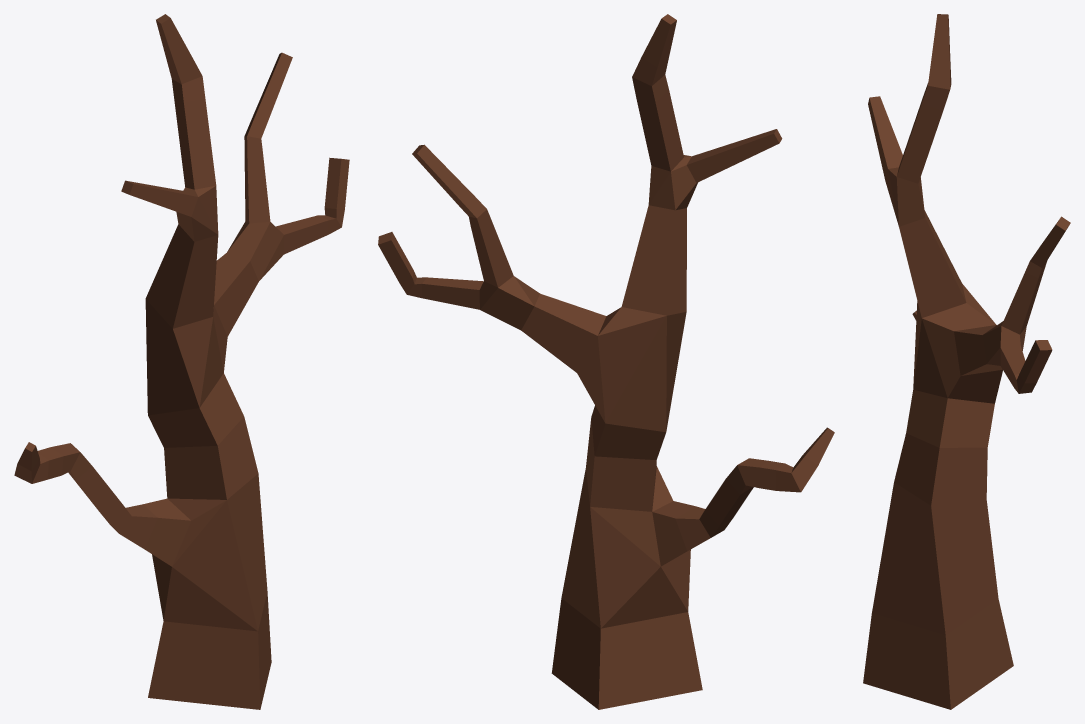
The model's file is tree003.fbx.
The picture shows the model from 3 angles, left to right: view 1: azimuth 30°, elevation 25°; view 2: azimuth 150°, elevation 25°; view 3: azimuth 270°, elevation 25°; orthographic projection. The views are drawn at different scales.
Parts seen in each view (by area): view 1: Cube.003; view 2: Cube.003; view 3: Cube.003.
Part boxes in pixels (box(x1,y1,x2,y2)): Cube.003: box(14, 14, 349, 709); Cube.003: box(378, 14, 834, 709); Cube.003: box(863, 14, 1070, 709).
Bounding box in the file's own units: 361 × 600 × 175.
